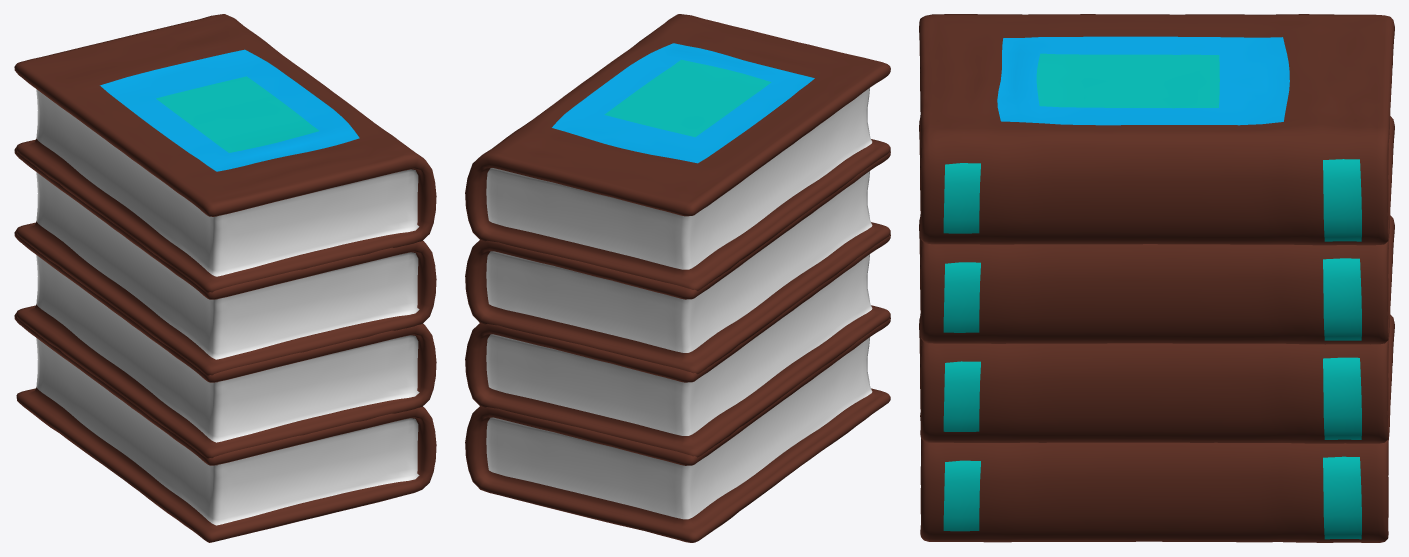
The model's file is libros2_CGIHC.fbx.
The picture shows the model from 3 angles, left to right: view 1: azimuth 30°, elevation 25°; view 2: azimuth 150°, elevation 25°; view 3: azimuth 270°, elevation 25°; orthographic projection. The views are drawn at different scales.
Visible parts, largest first — view 1: mesh.007; view 2: mesh.007; view 3: mesh.007.
Part boxes in pixels (<box>): mesh.007: <box>14,14,436,542</box>; mesh.007: <box>465,14,890,542</box>; mesh.007: <box>919,14,1394,542</box>.
Bounding box in the file's own units: 67.67 × 94.48 × 99.9.
